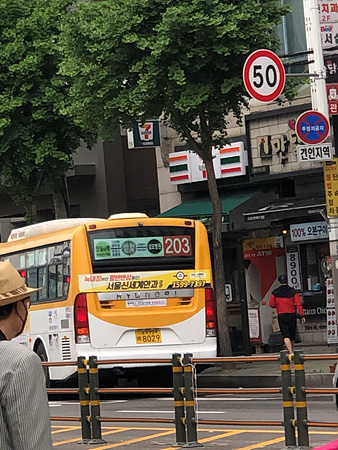bnum: (163, 236, 190, 254)
